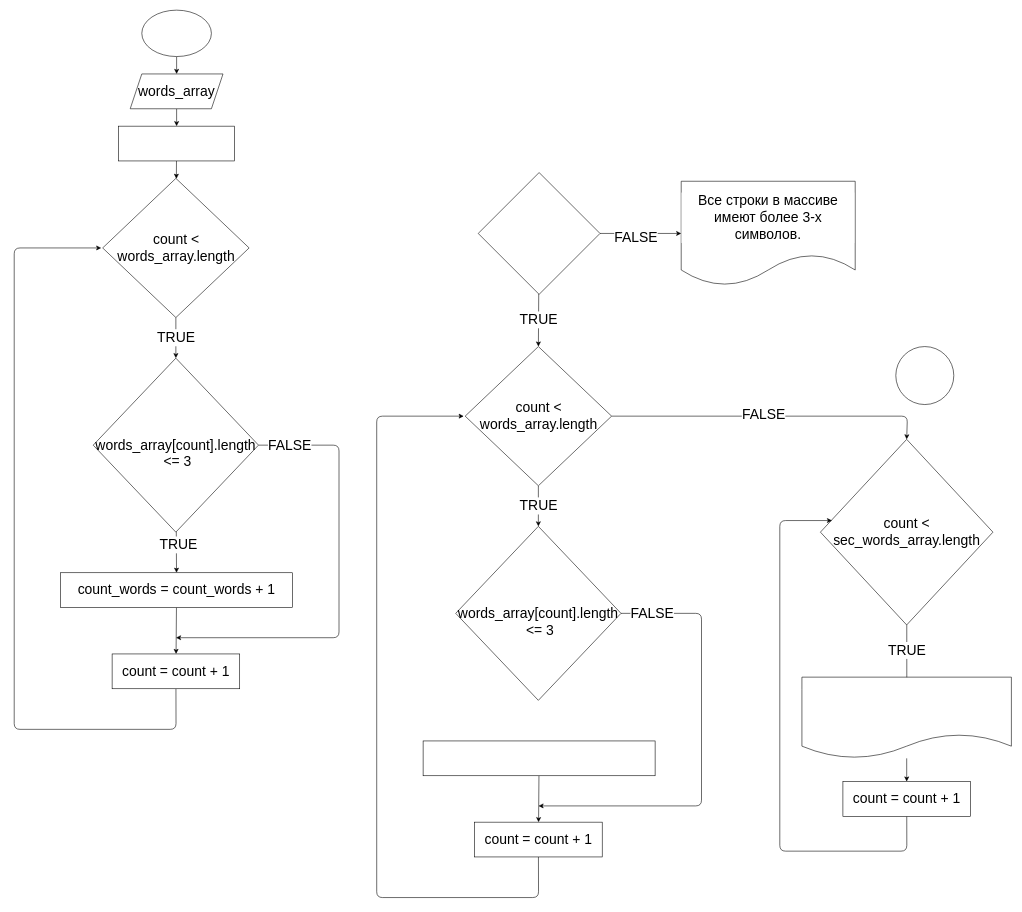
Some shapes in this 1022 by 912 pixel diagram are drawn without their labels. Here are the shapes that lost their labels. From the top down, the centre of each, then its label:
(x=176, y=33): START
(x=176, y=143): count_words = 0
(x=539, y=233): count_words > 0
(x=924, y=375): END
(x=906, y=717): sec_words_array[count_words]
(x=539, y=758): sec_words_array[count] = words_array[count]
